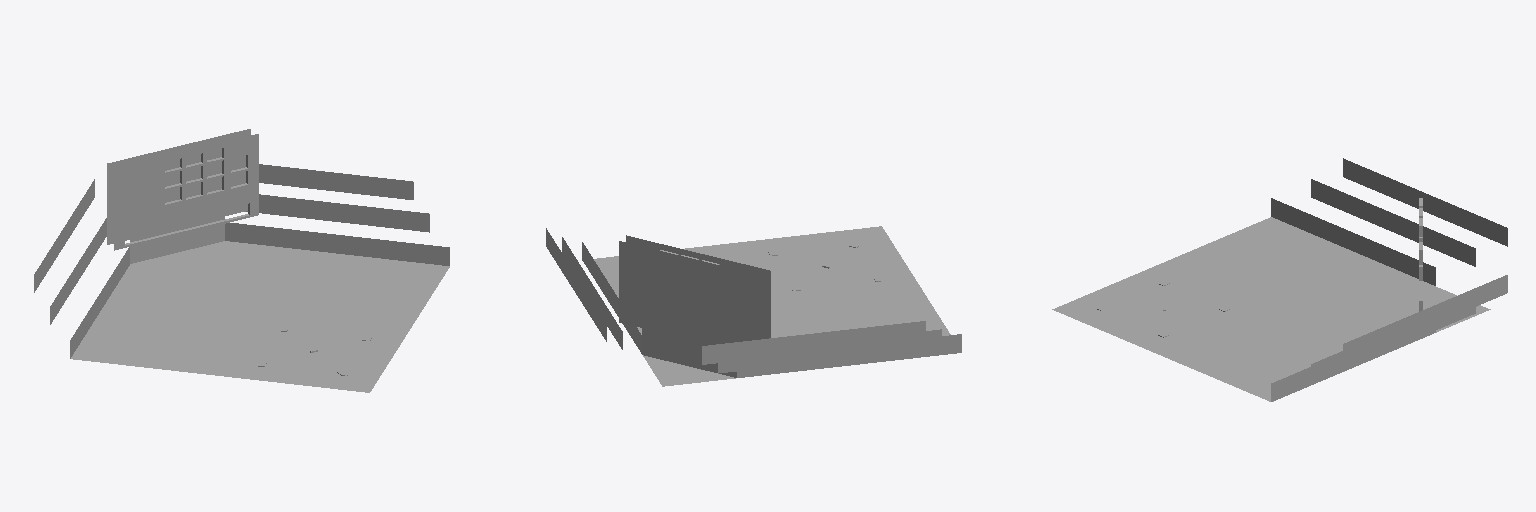
File: default_stadium.obj
3 views of the same model, side by side, from view 1: azimuth 30°, elevation 25°; view 2: azimuth 150°, elevation 25°; view 3: azimuth 270°, elevation 25° (orthographic).
Visible parts, largest first — view 1: 9.5.184.0; view 2: 9.5.184.0; view 3: 9.5.184.0.
Part boxes in pixels (bbox=[...]): 9.5.184.0: bbox=[34, 129, 449, 392]; 9.5.184.0: bbox=[546, 226, 961, 386]; 9.5.184.0: bbox=[1052, 158, 1507, 401].
Size of the model in its own units: 52.56 by 14.23 by 54.6.